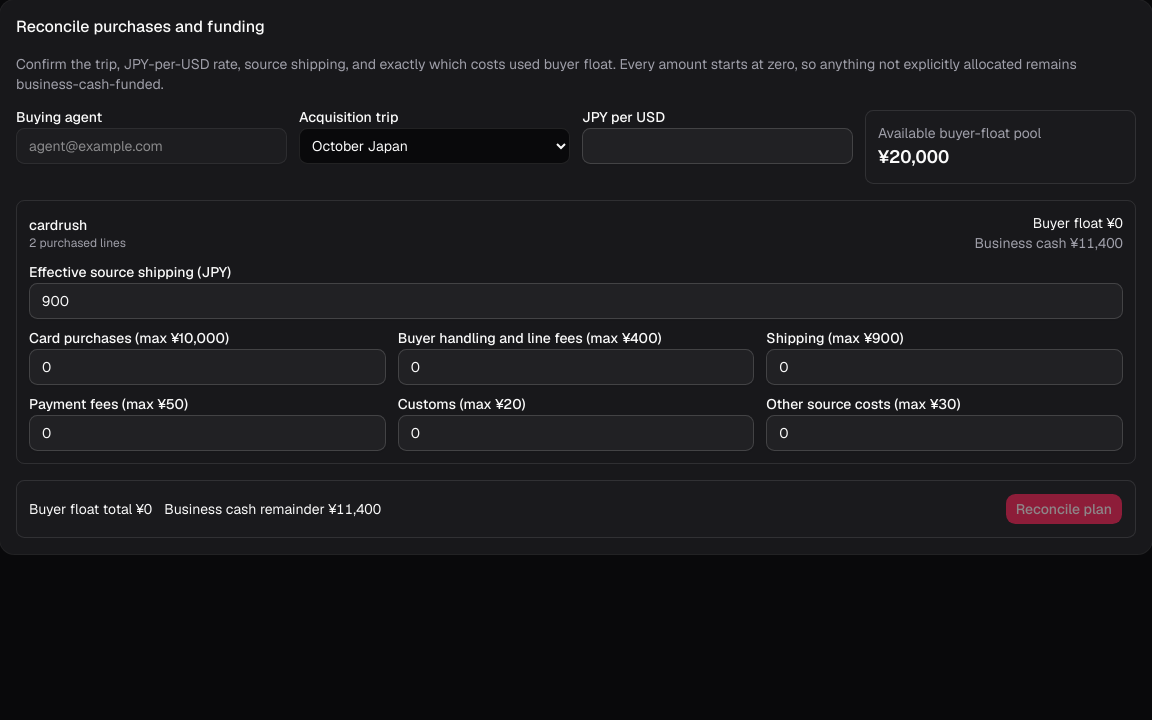
it: PurchaseReconciliationPanel › clears a definite rejection so the operator can correct the inputs
Check: the field labelled "Card purchases (max ¥10,000)" holds "0", box 29,349 -> 386,385
Type "150" into the field labelled "JPY per USD" at (718, 146), box 582,128 -> 853,164
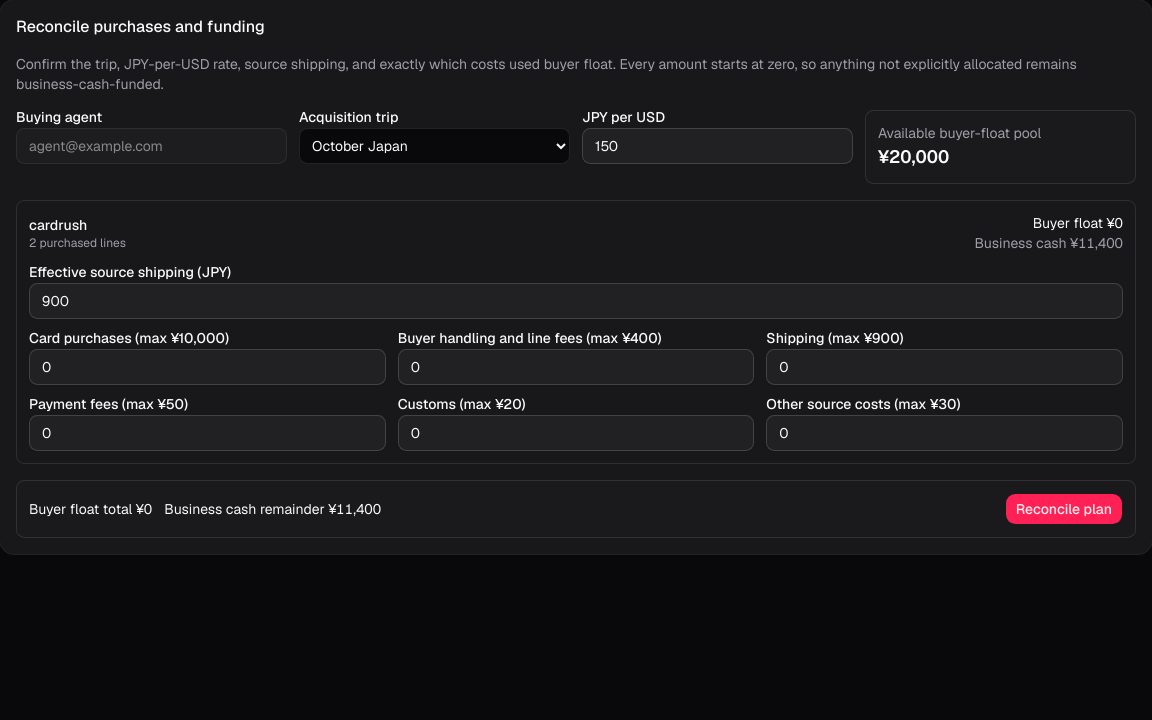
Replace the text in the field labelled "Card purchases (max ¥10,000)" with "8000" at (207, 367), box 29,349 -> 386,385
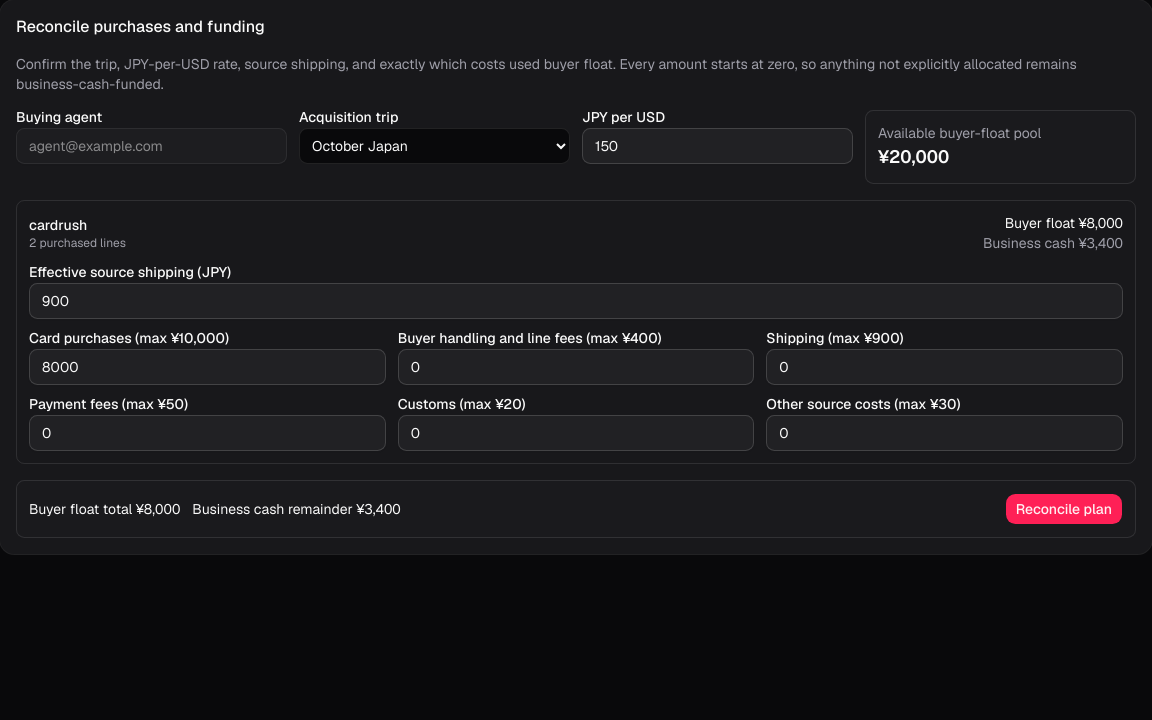
Replace the text in the field labelled "Buyer handling and line fees (max ¥400)" with "400" at (576, 367), box 398,349 -> 754,385
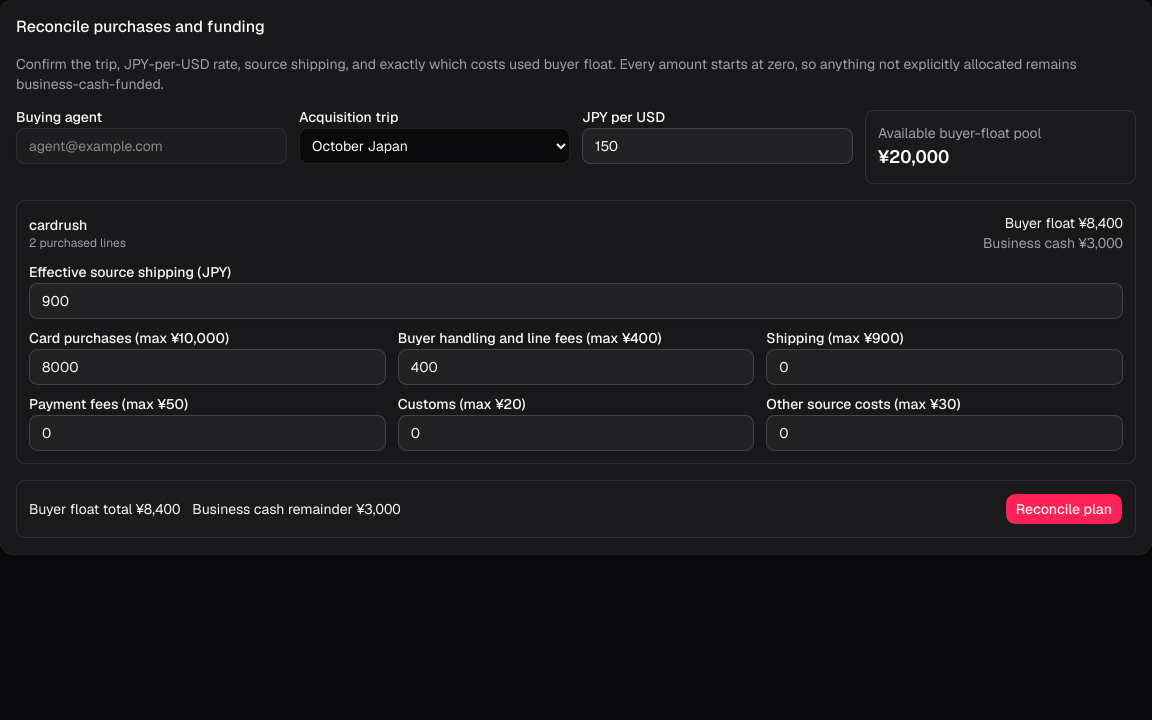
Replace the text in the field labelled "Shipping (max ¥900)" with "900" at (945, 367), box 766,349 -> 1123,385
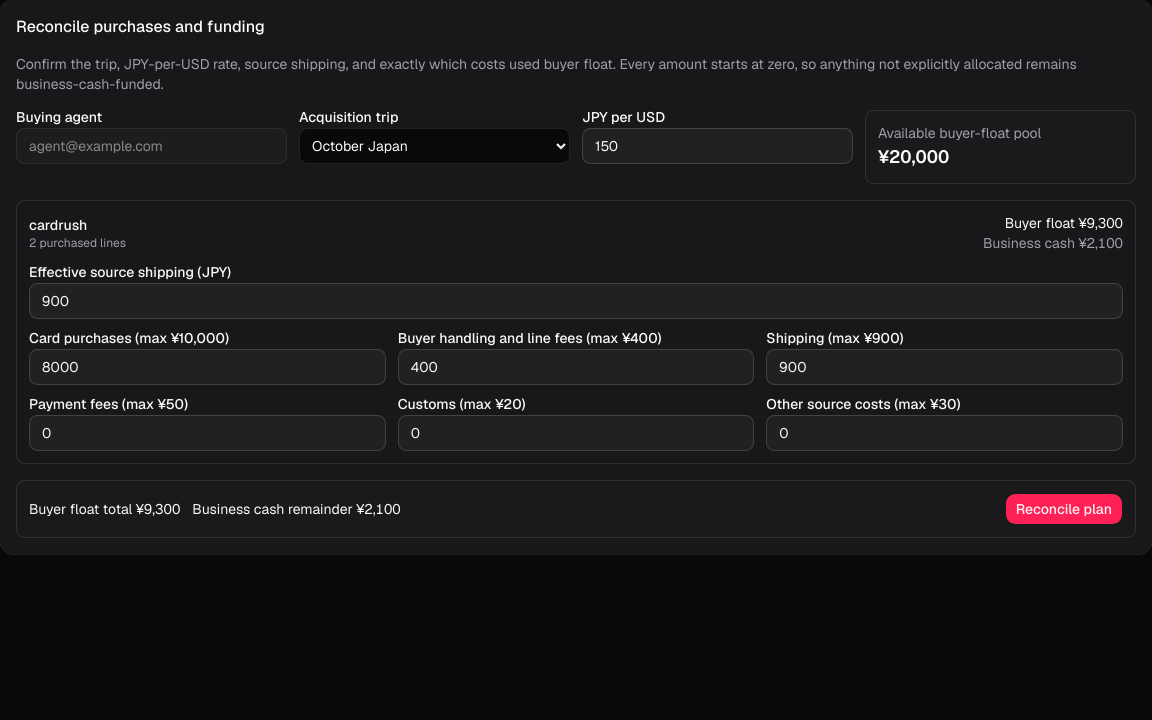
Click the button "Reconcile plan" at (1064, 509), box 1005,493 -> 1123,525
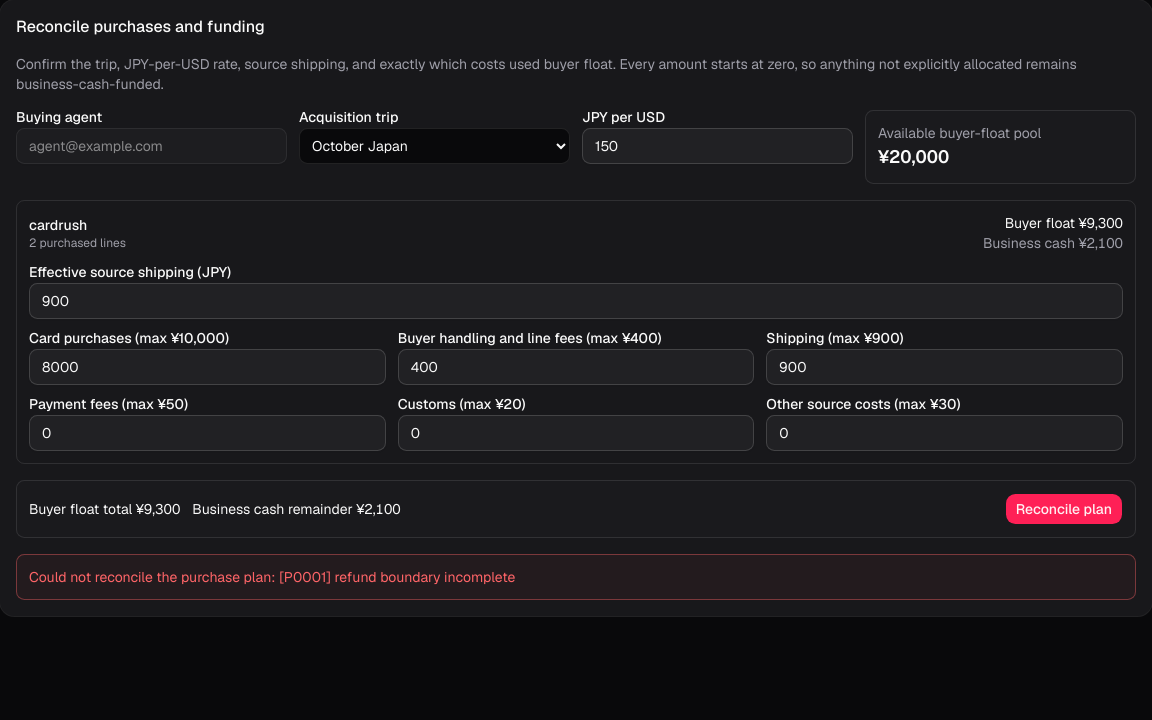
Check: the field labelled "JPY per USD" is enabled, box 582,128 -> 853,164
Check: the message shows "refund boundary incomplete", box 29,568 -> 515,586
